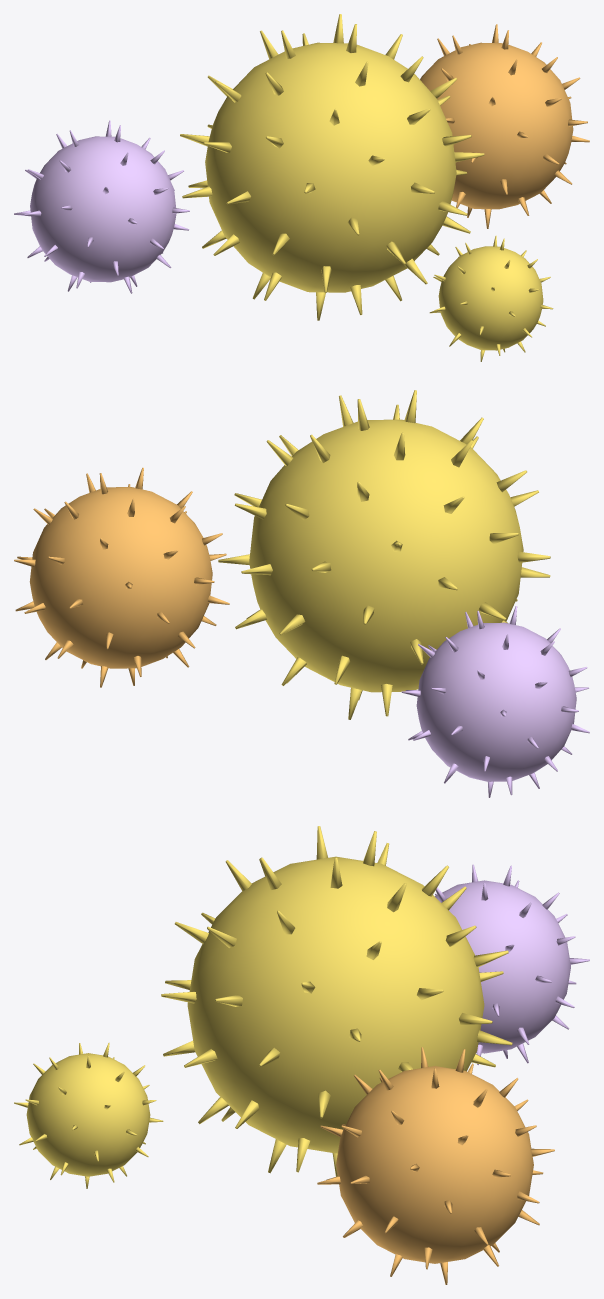
The model's file is E13_Pollen_Spores.glb.
The picture shows the model from 3 angles, top to bottom: view 1: azimuth 30°, elevation 25°; view 2: azimuth 150°, elevation 25°; view 3: azimuth 270°, elevation 25°; orthographic projection. The views are drawn at different scales.
Visible parts, largest first — view 1: E13_Pollen_Spores_Mesh; view 2: E13_Pollen_Spores_Mesh; view 3: E13_Pollen_Spores_Mesh.
Boxes of the visible parts, x1,y1,x2,y2 form: E13_Pollen_Spores_Mesh: [14, 14, 589, 361]; E13_Pollen_Spores_Mesh: [14, 390, 589, 797]; E13_Pollen_Spores_Mesh: [14, 826, 589, 1284].
Bounding box in the file's own units: 2.91 × 1.44 × 2.33.
